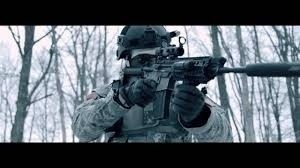pistol: (107, 51, 294, 105)
